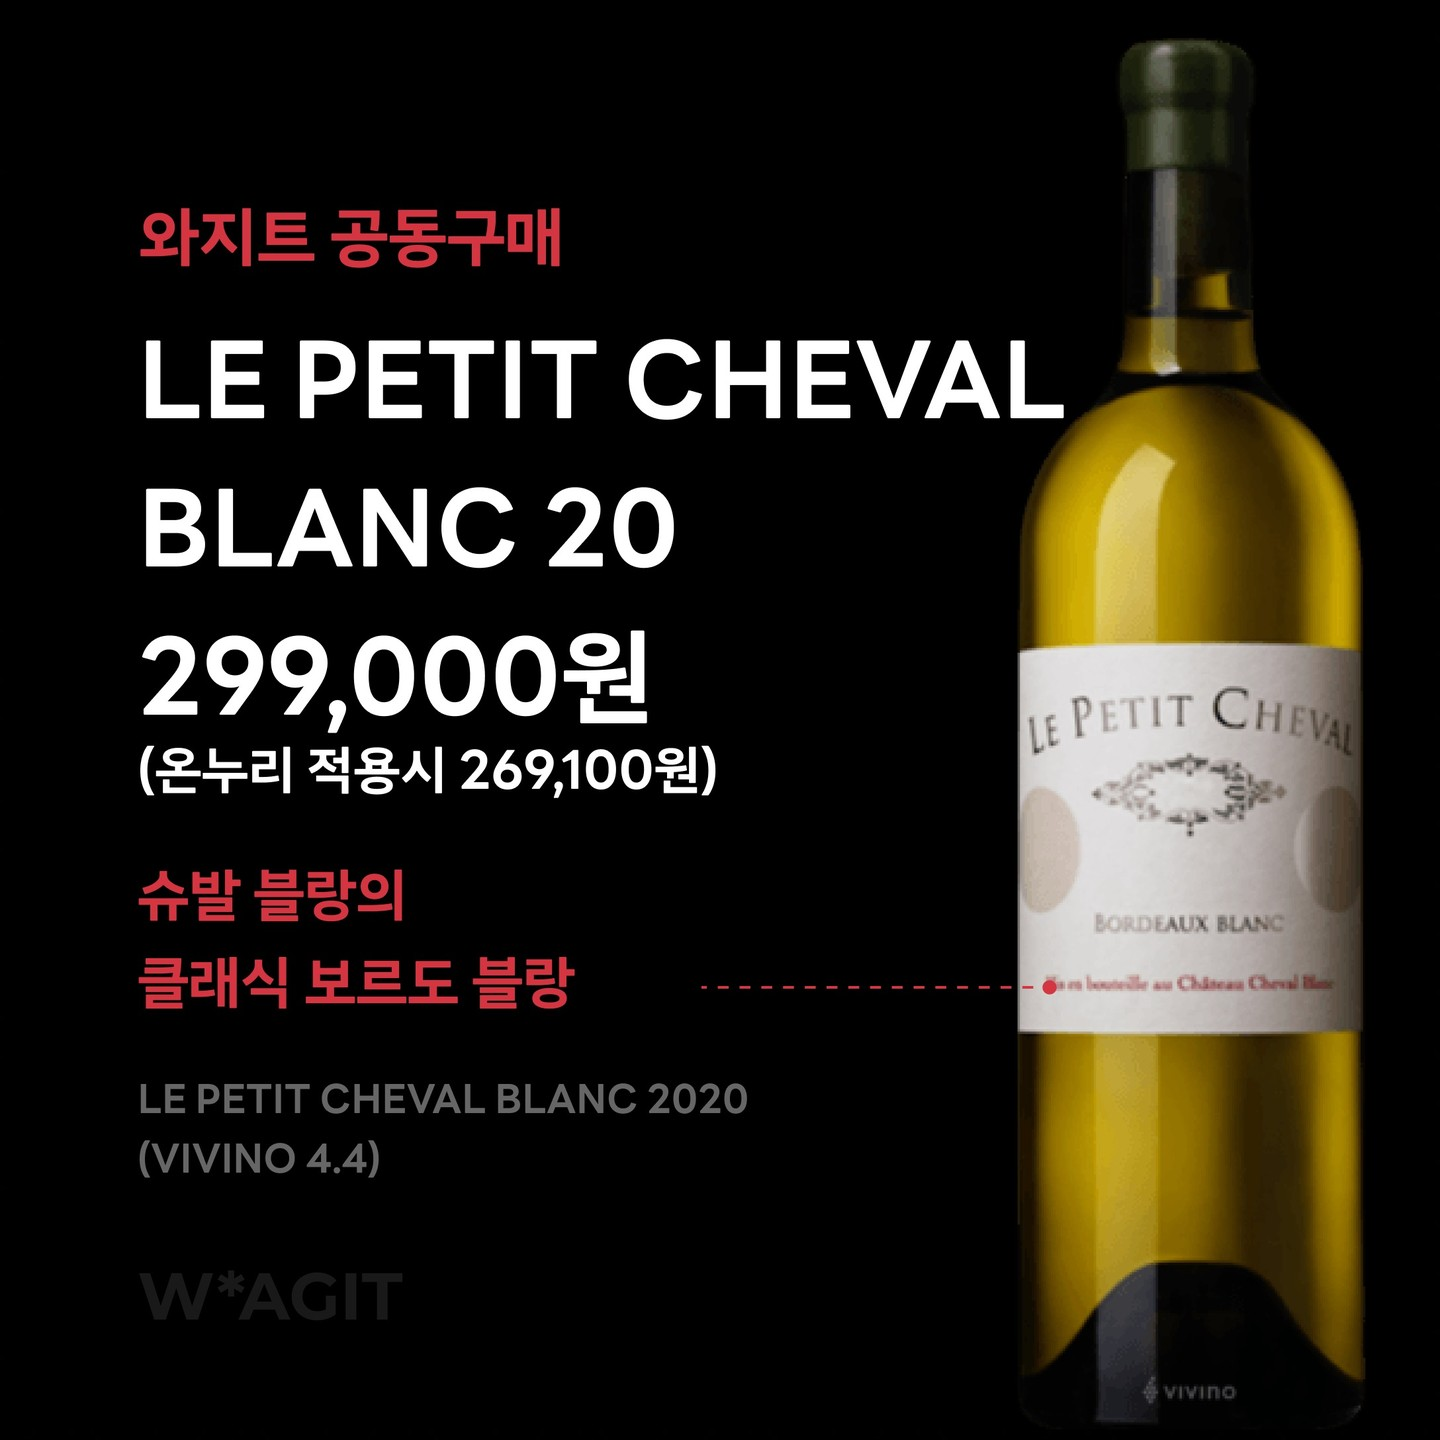alcohol: (1009, 30, 1374, 1440)
